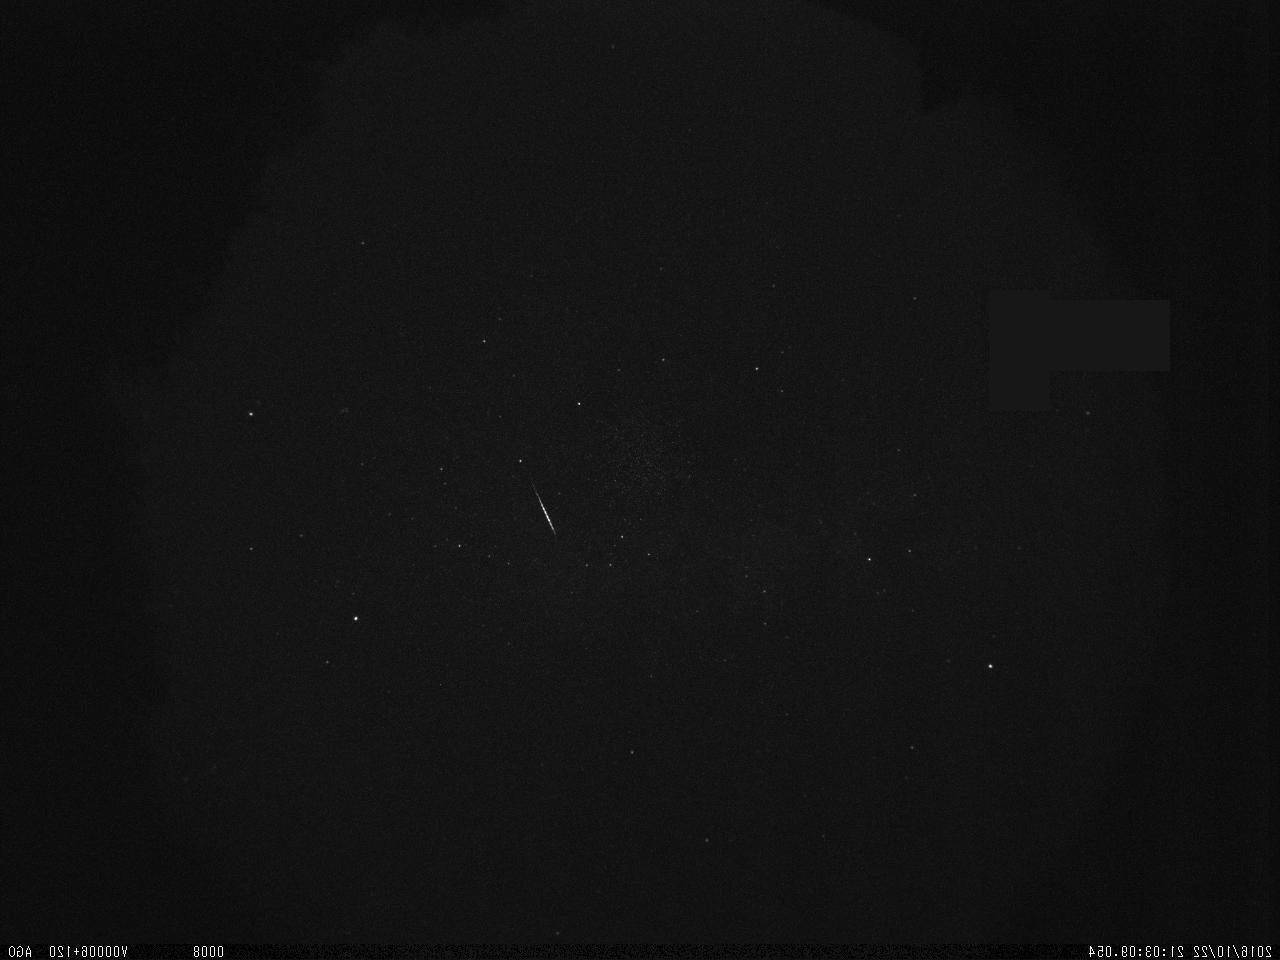meteor: (524, 472, 558, 541)
